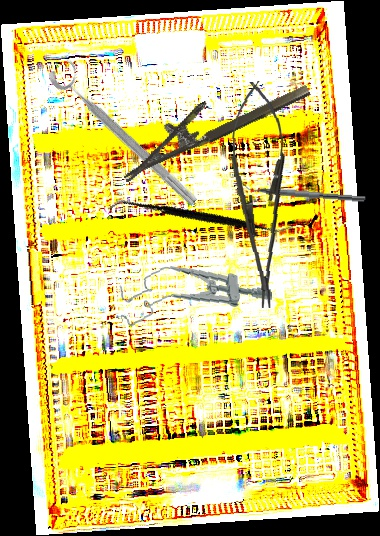Chopper: (237, 178, 367, 203)
Fixation Ring: (45, 55, 209, 210)
Needle Holder: (109, 59, 312, 183), (225, 80, 294, 310)
Spatula Surgical: (106, 141, 295, 295)
Speculum: (116, 255, 274, 328)
